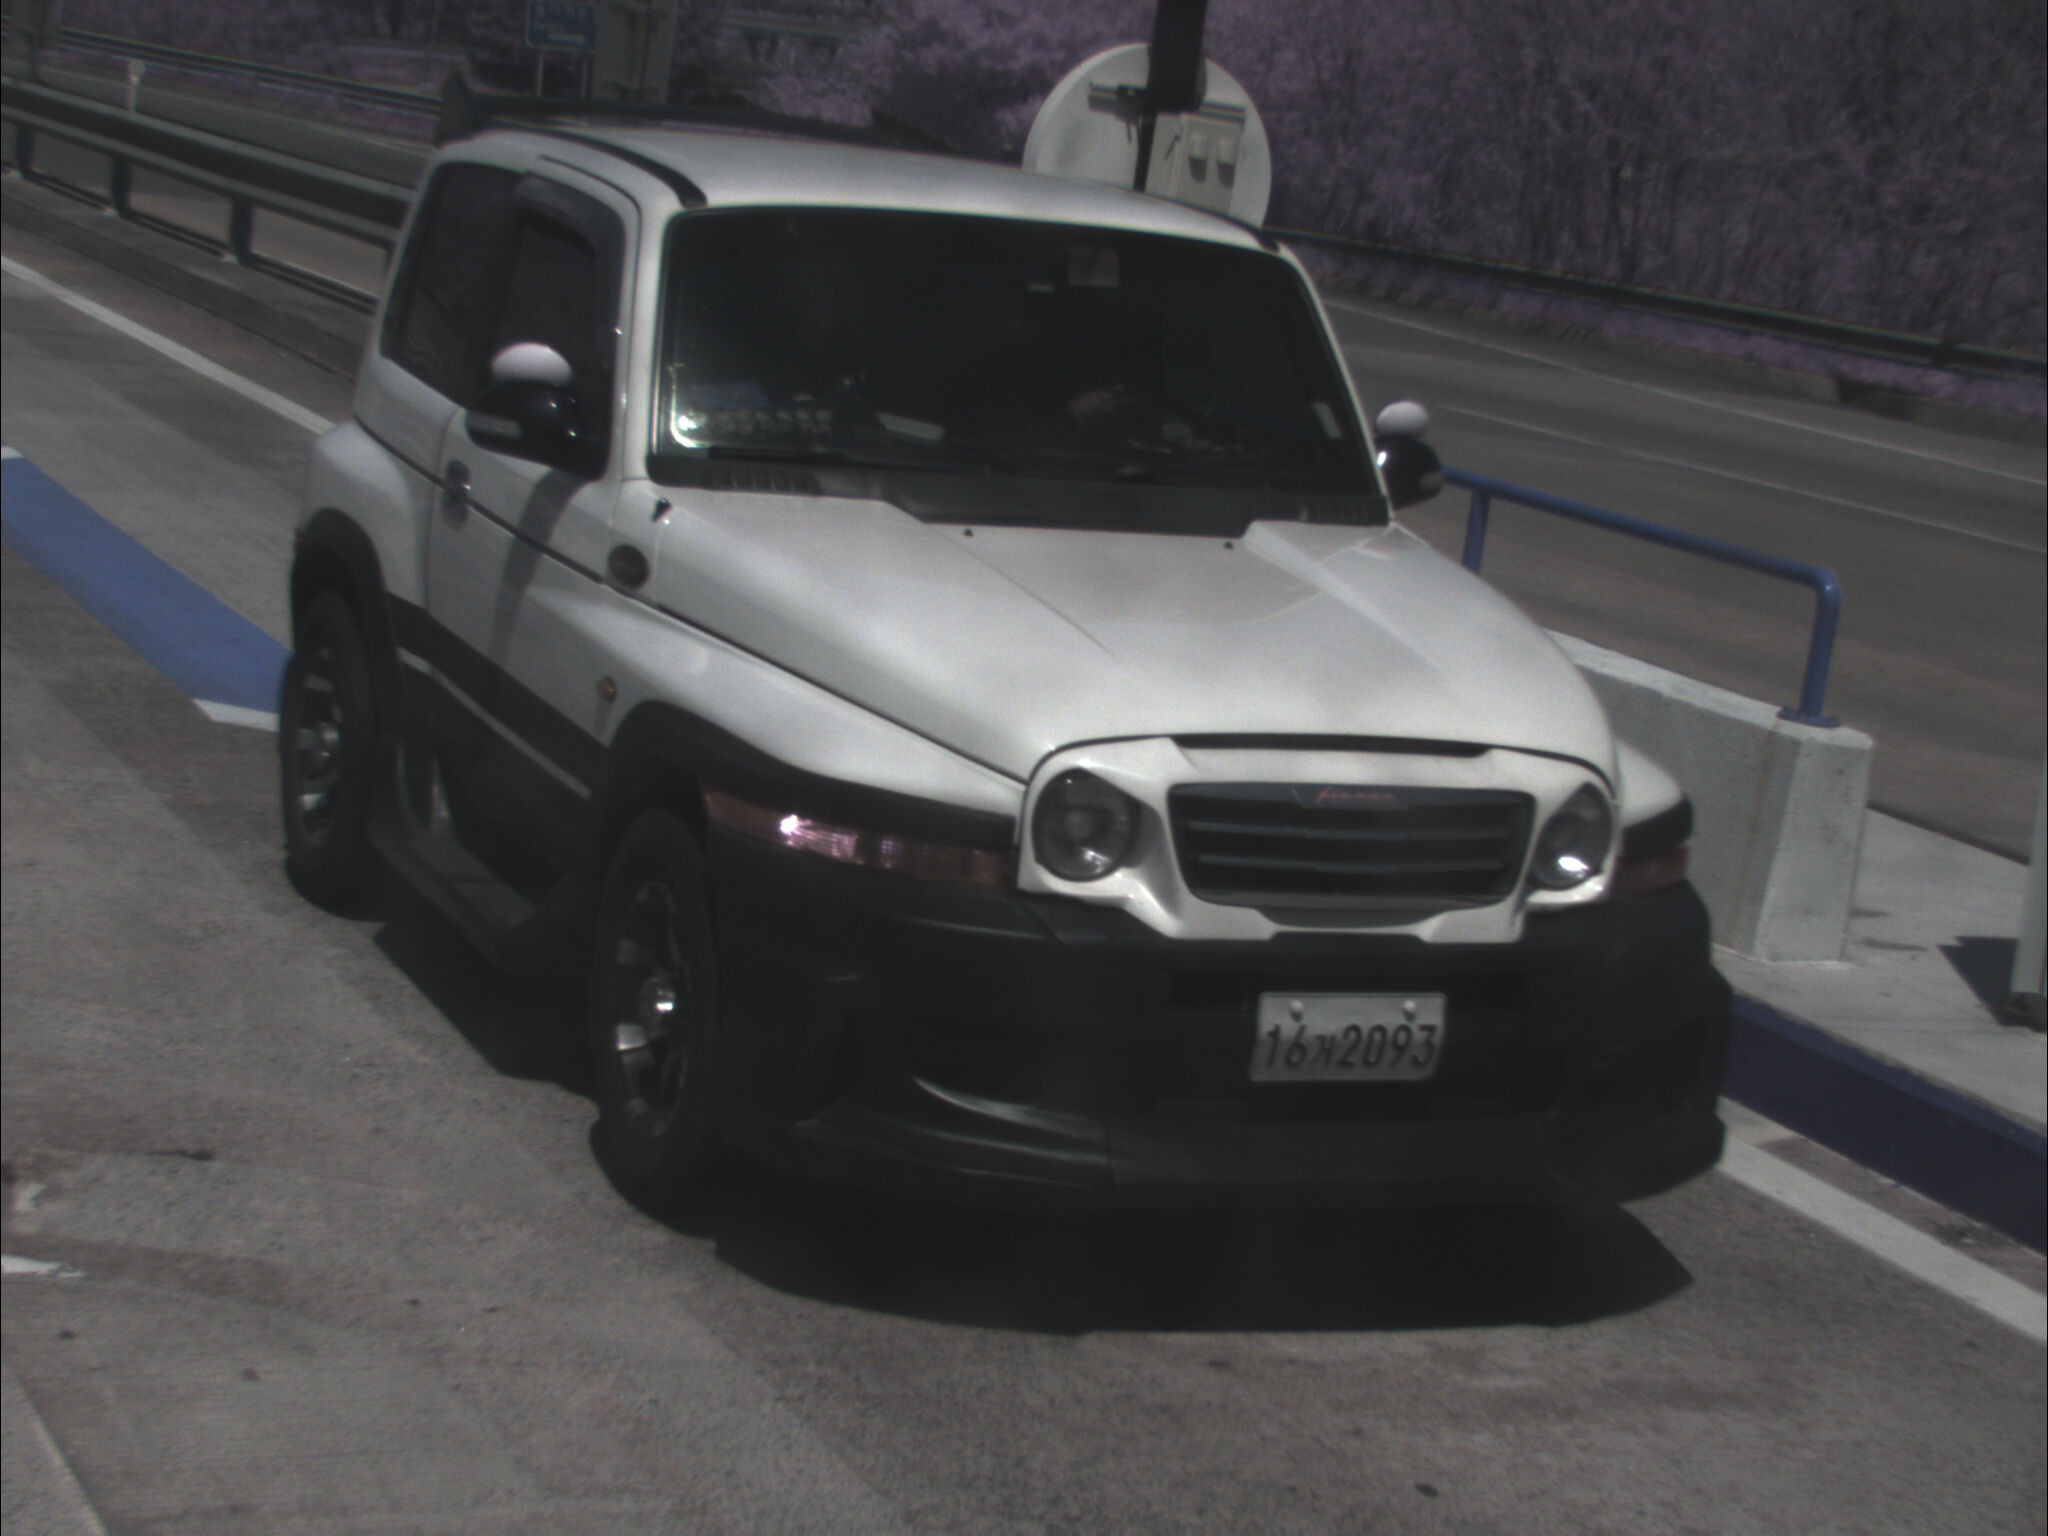car: (267, 106, 1742, 1287)
plate: (1238, 985, 1450, 1087)
